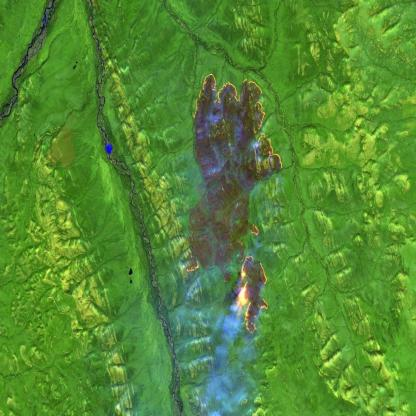fire: (181, 68, 285, 337)
